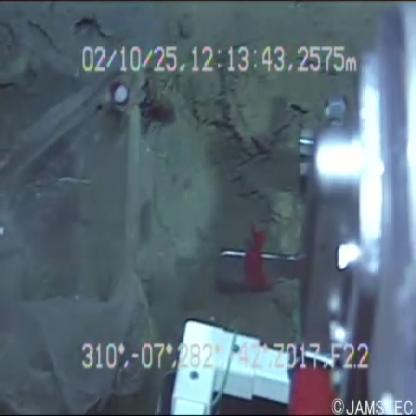Rov: (157, 6, 416, 411)
Rác: (1, 44, 192, 410)
